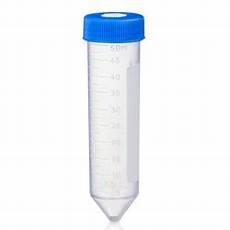Test tube: (73, 12, 156, 229)
